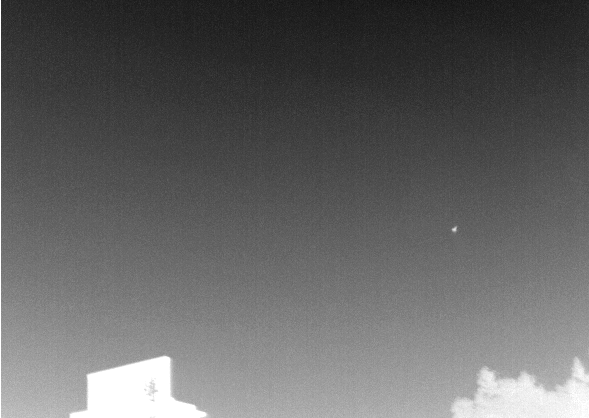dim target: (451, 225, 458, 234)
